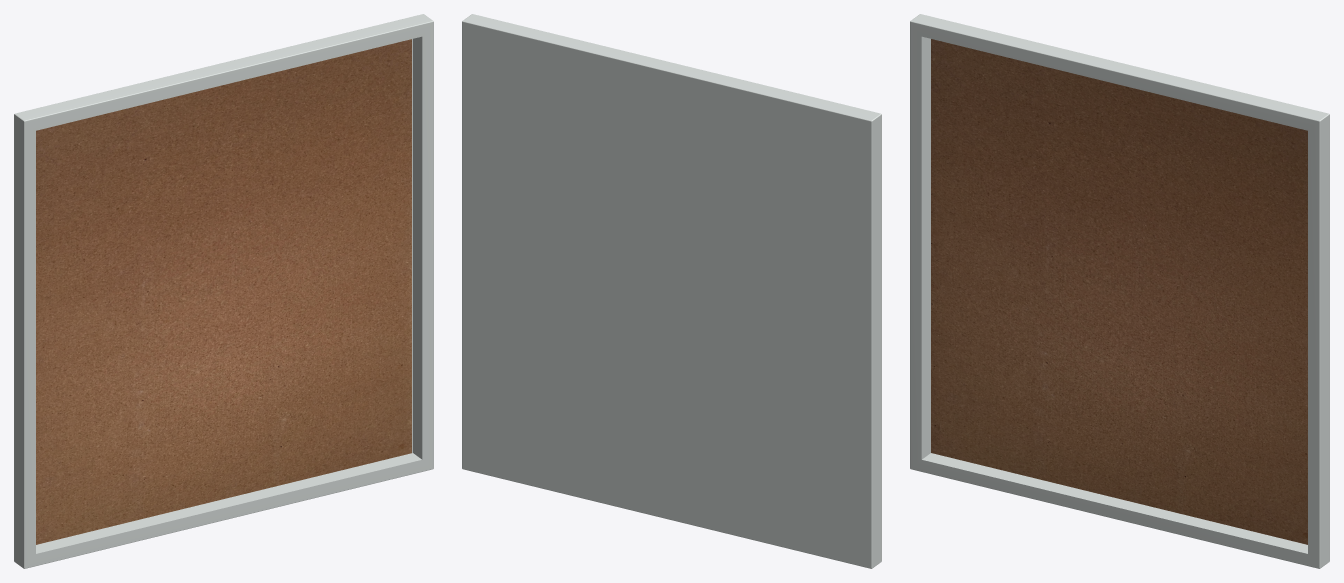
Rendered from NOVO.fbx.
3 renders of one model, left to right at view 1: azimuth 30°, elevation 25°; view 2: azimuth 150°, elevation 25°; view 3: azimuth 330°, elevation 25°, orthographic.
Visible parts, largest first — view 1: pCube3; view 2: pCube3; view 3: pCube3.
Boxes of the visible parts, x1,y1,x2,y2 form: pCube3: (14, 14, 433, 568); pCube3: (462, 14, 881, 568); pCube3: (910, 14, 1329, 568).
Bounding box in the file's own units: 213 × 223 × 9.31.
